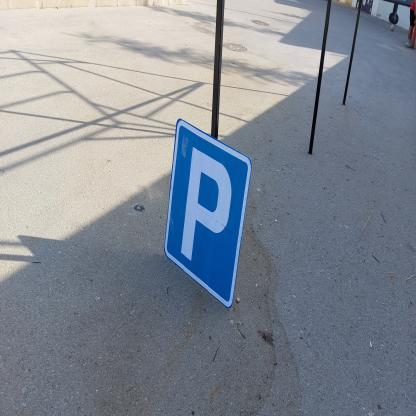Parking-Sign: (164, 116, 254, 311)
